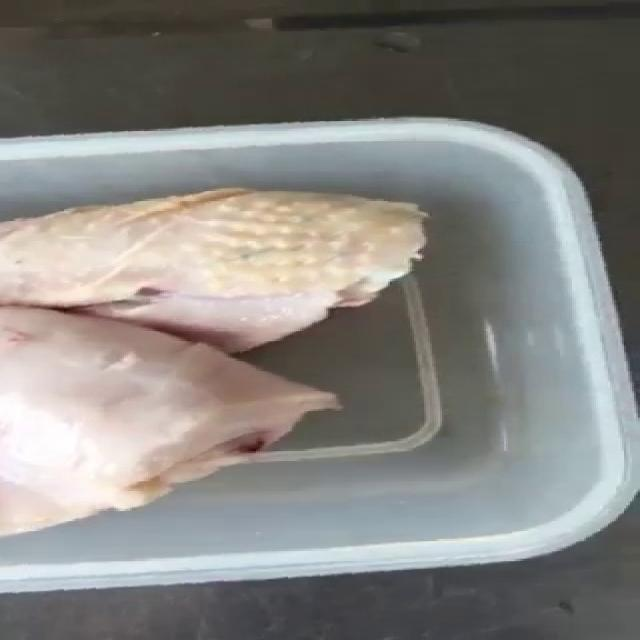chicken: (0, 186, 430, 554)
